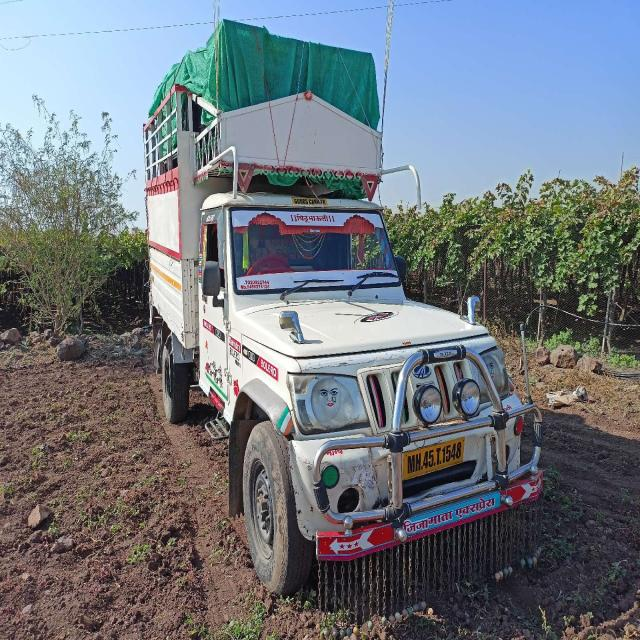light_vehicle: (147, 196, 548, 566)
